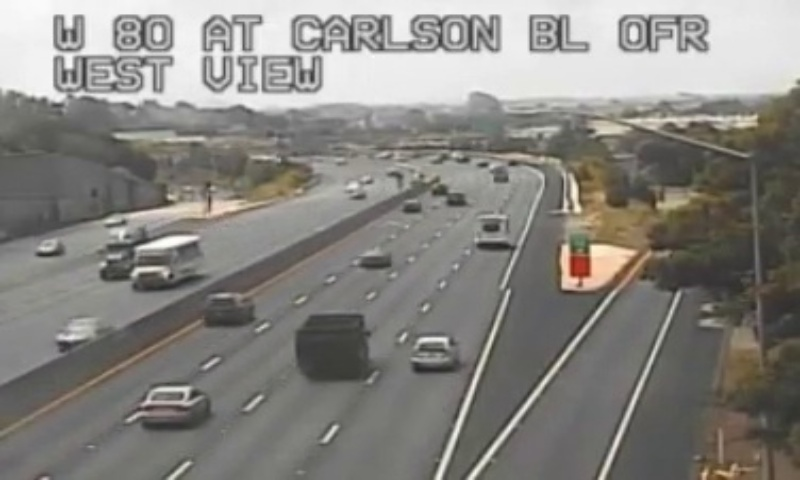bus: (474, 214, 510, 247)
car: (140, 384, 206, 427), (410, 335, 455, 369), (204, 292, 253, 323)
small-truck: (295, 313, 365, 377)
